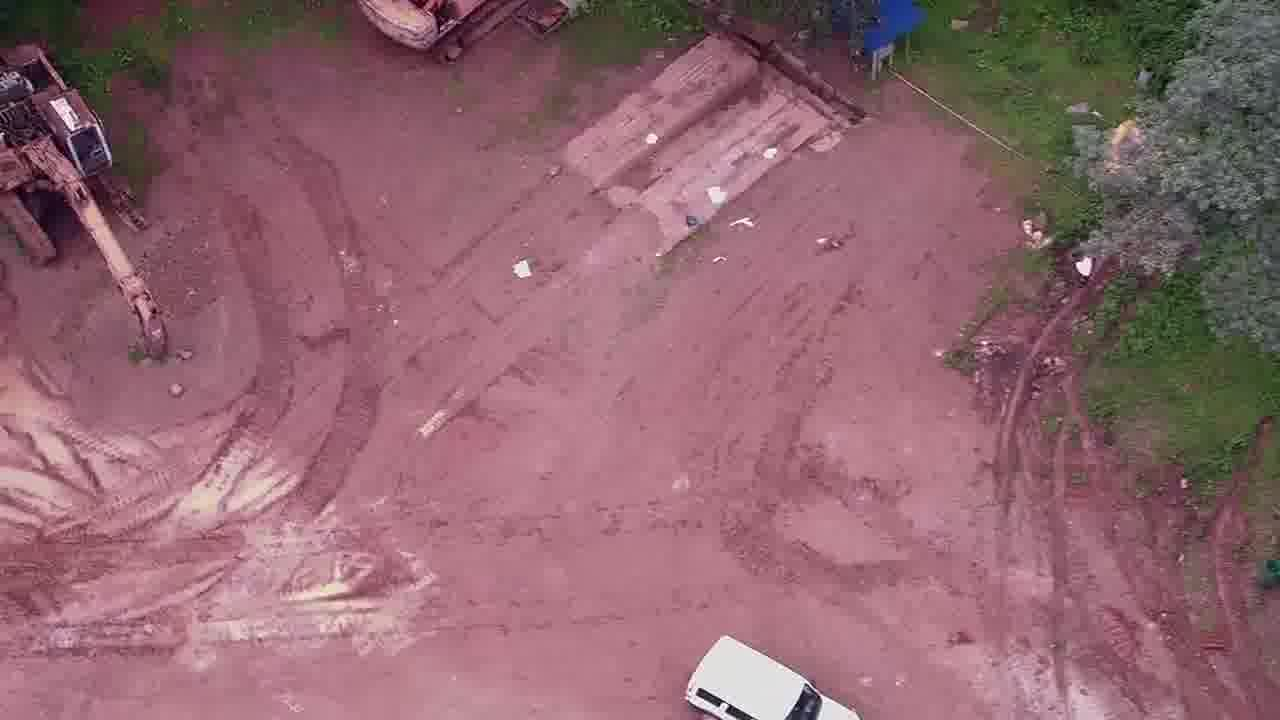HMV: (1, 20, 143, 343)
LMV: (685, 628, 860, 720)
